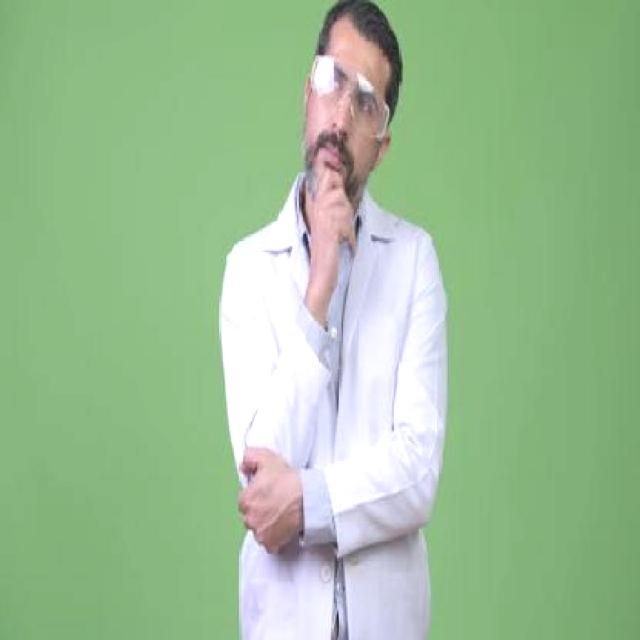face_nomask: (312, 63, 376, 171)
glasses: (308, 51, 388, 146)
hand_noglove: (232, 439, 316, 559), (303, 156, 371, 272)
head_nohelmet: (333, 1, 412, 74)
person: (206, 0, 472, 640)
